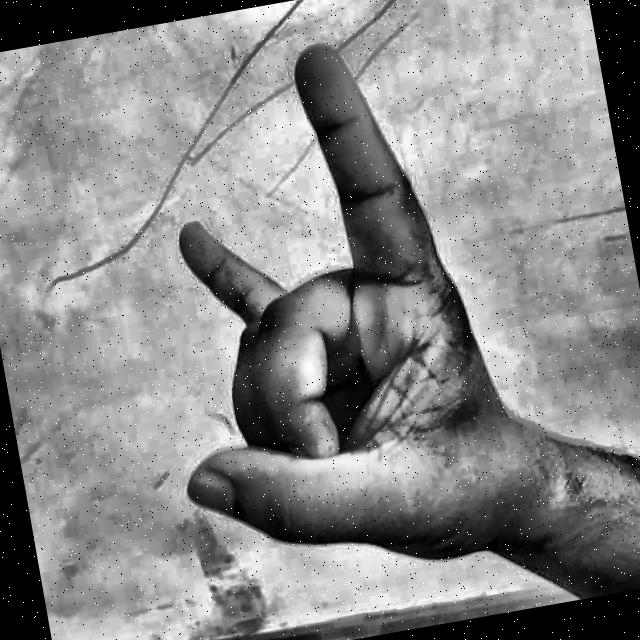Cha: (64, 0, 582, 640)
